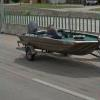Boat: (11, 15, 99, 63)
